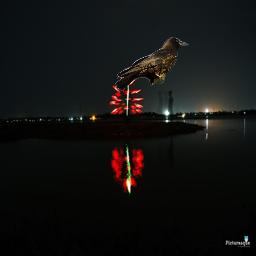Crow: (115, 36, 189, 92)
